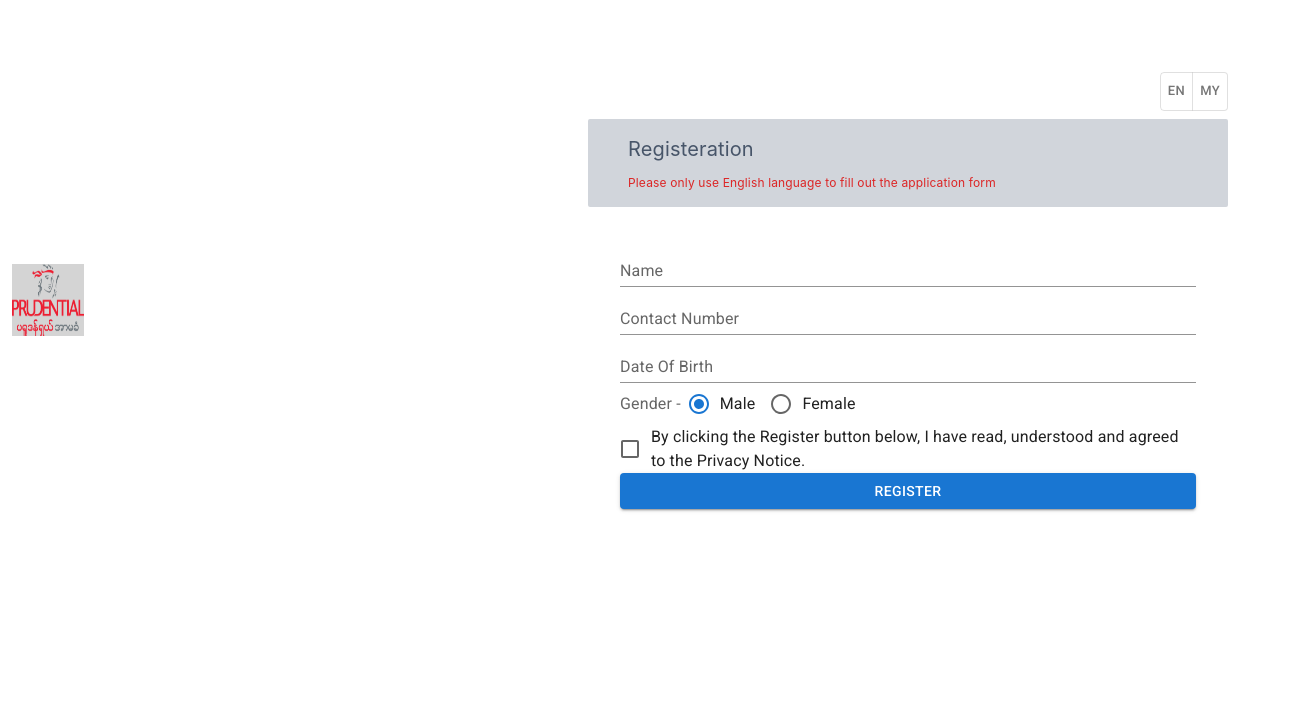
Register › name should be required on form submit
Click the button "Register".
click(908, 491)  # box [620,473,1196,509]
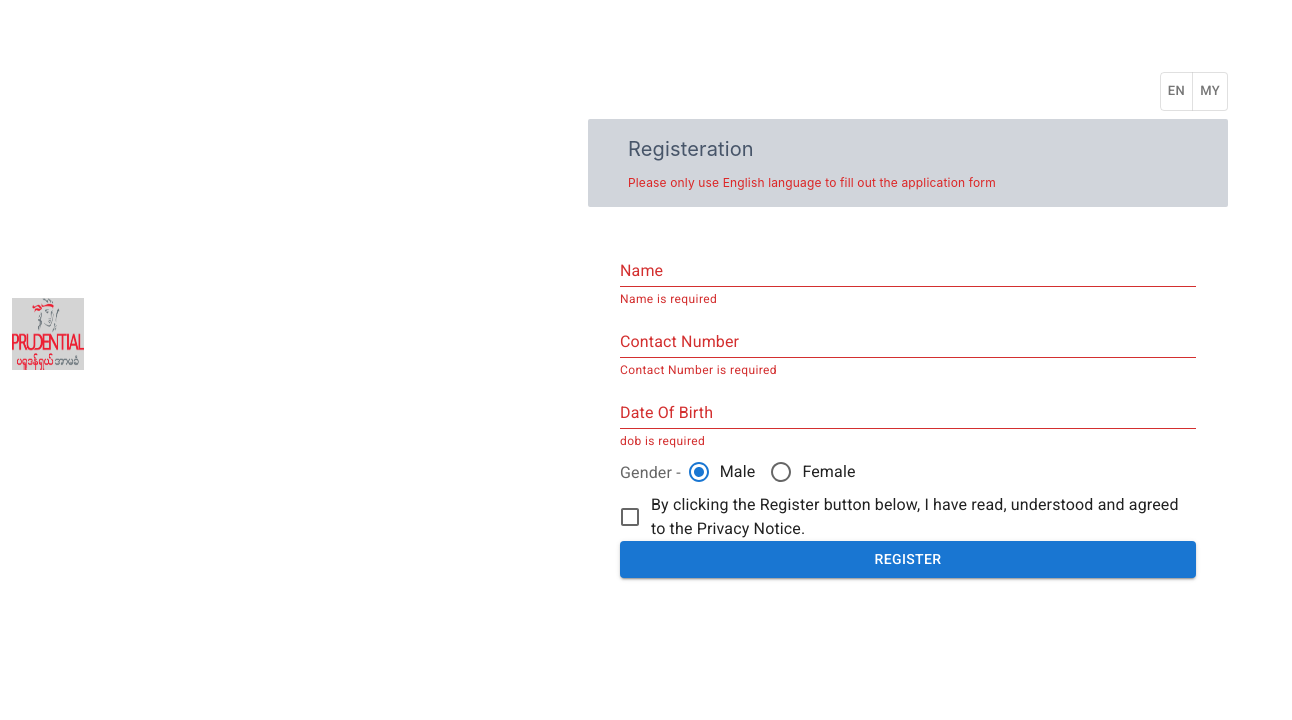
Result: the text "Name is required" is shown at [620,292,717,306]
